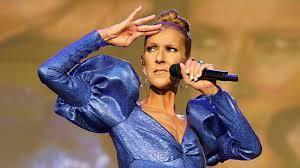Persons: (133, 6, 199, 97)
